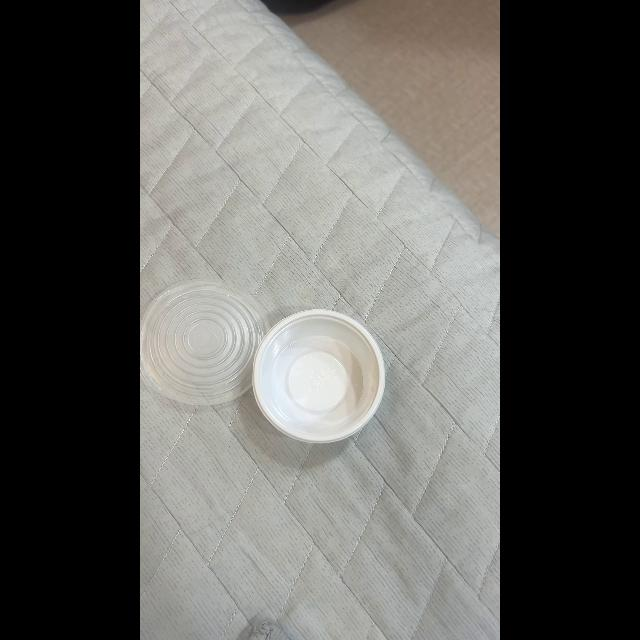clean: (252, 309, 386, 441), (140, 281, 270, 405)
